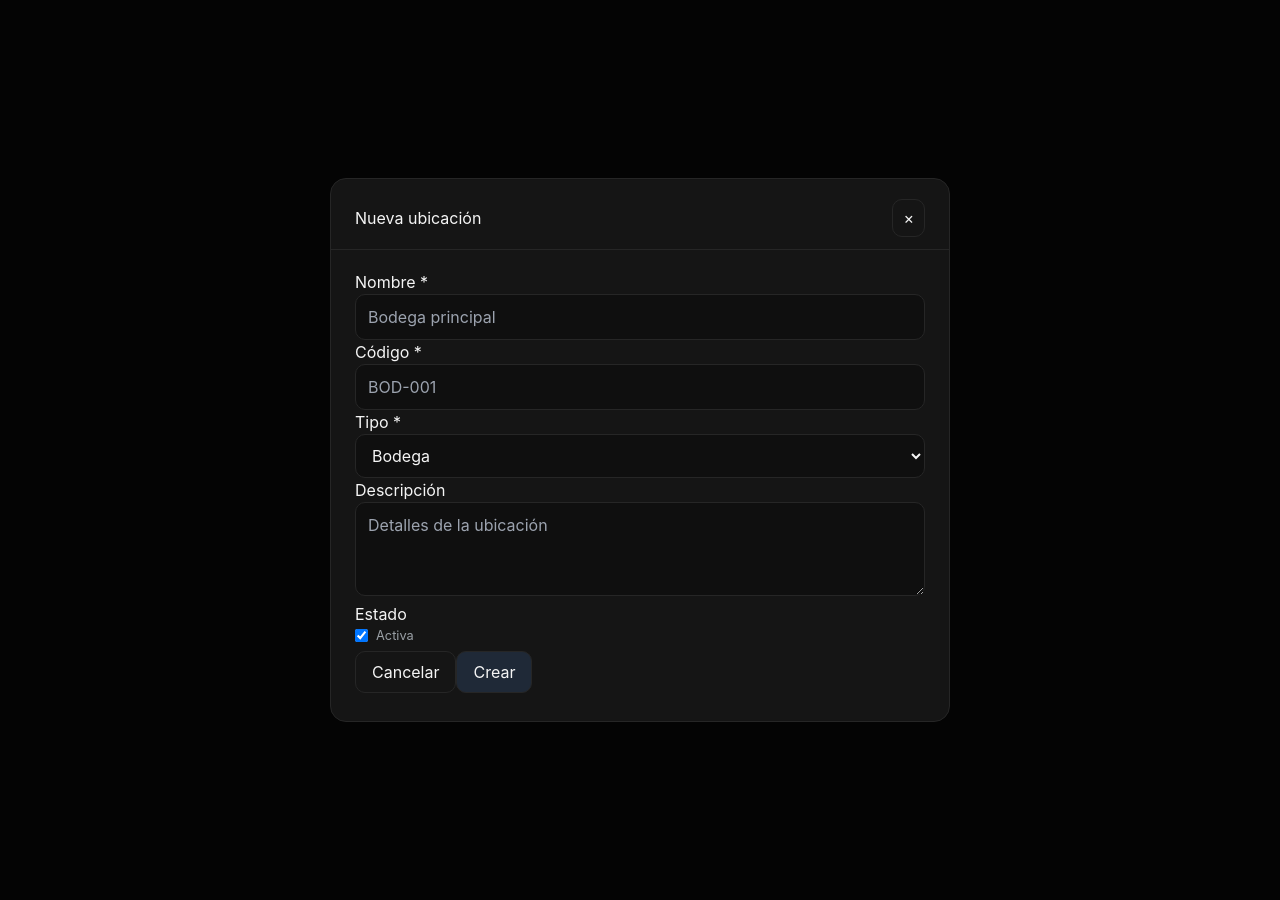
Scenario: LocationForm › muestra error cuando backend indica duplicado
The image size is (1280, 900).
Type "Bodega" into the field labelled "Nombre *" at (640,317), box [355,294,925,340]
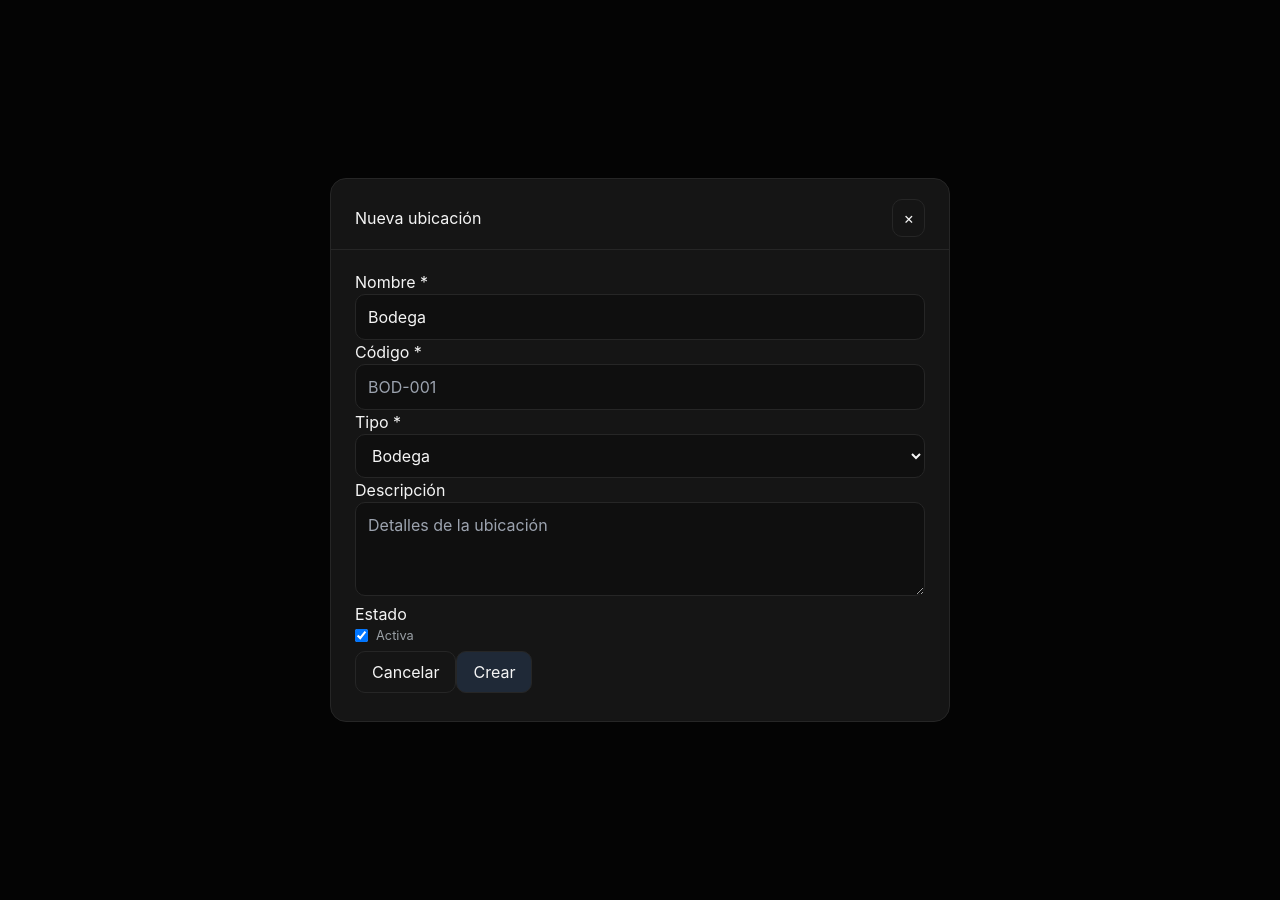
Type "BOD01" into the field labelled "Código *" at (640,387), box [355,364,925,410]
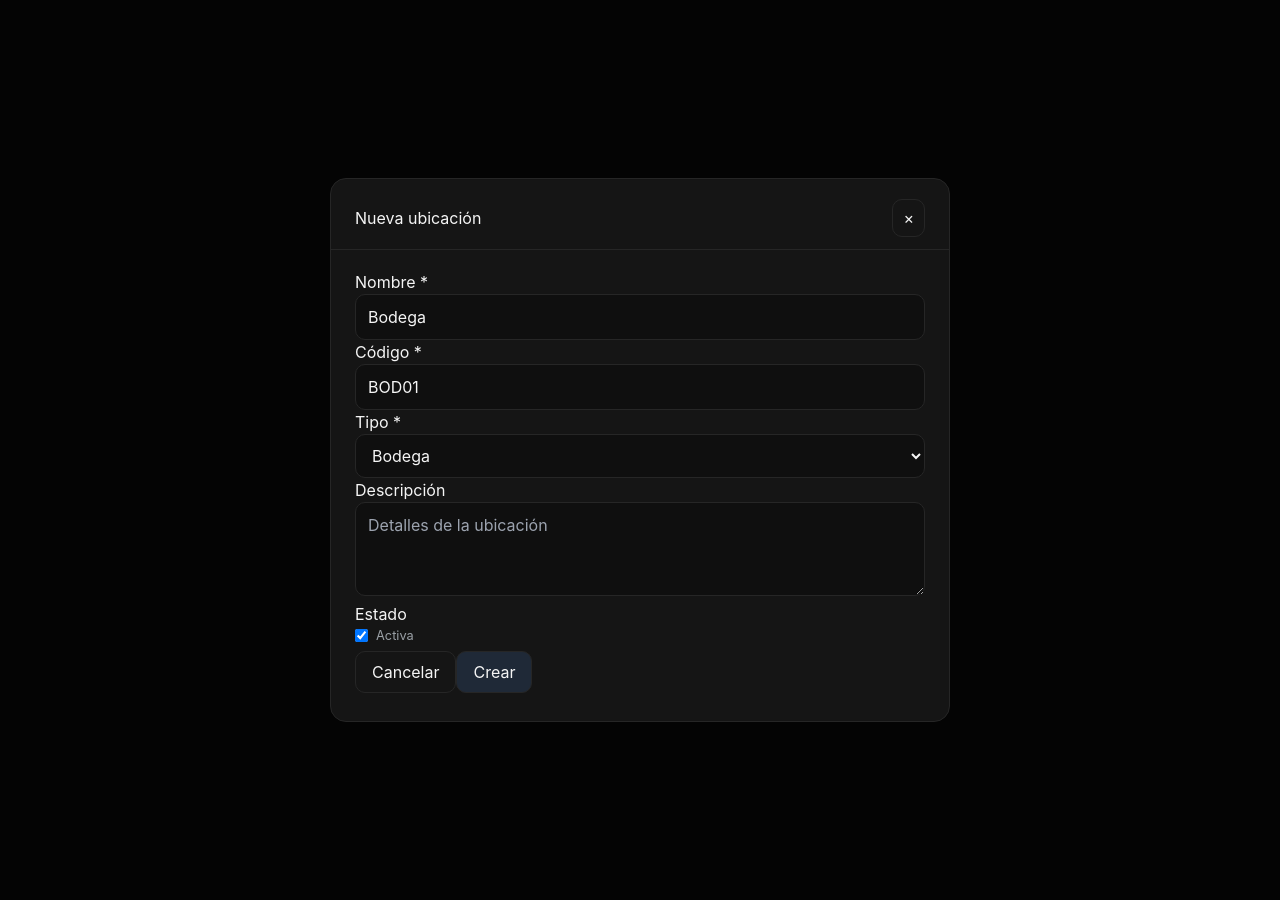
Click the button "Crear" at (494,672), box [456,651,532,693]
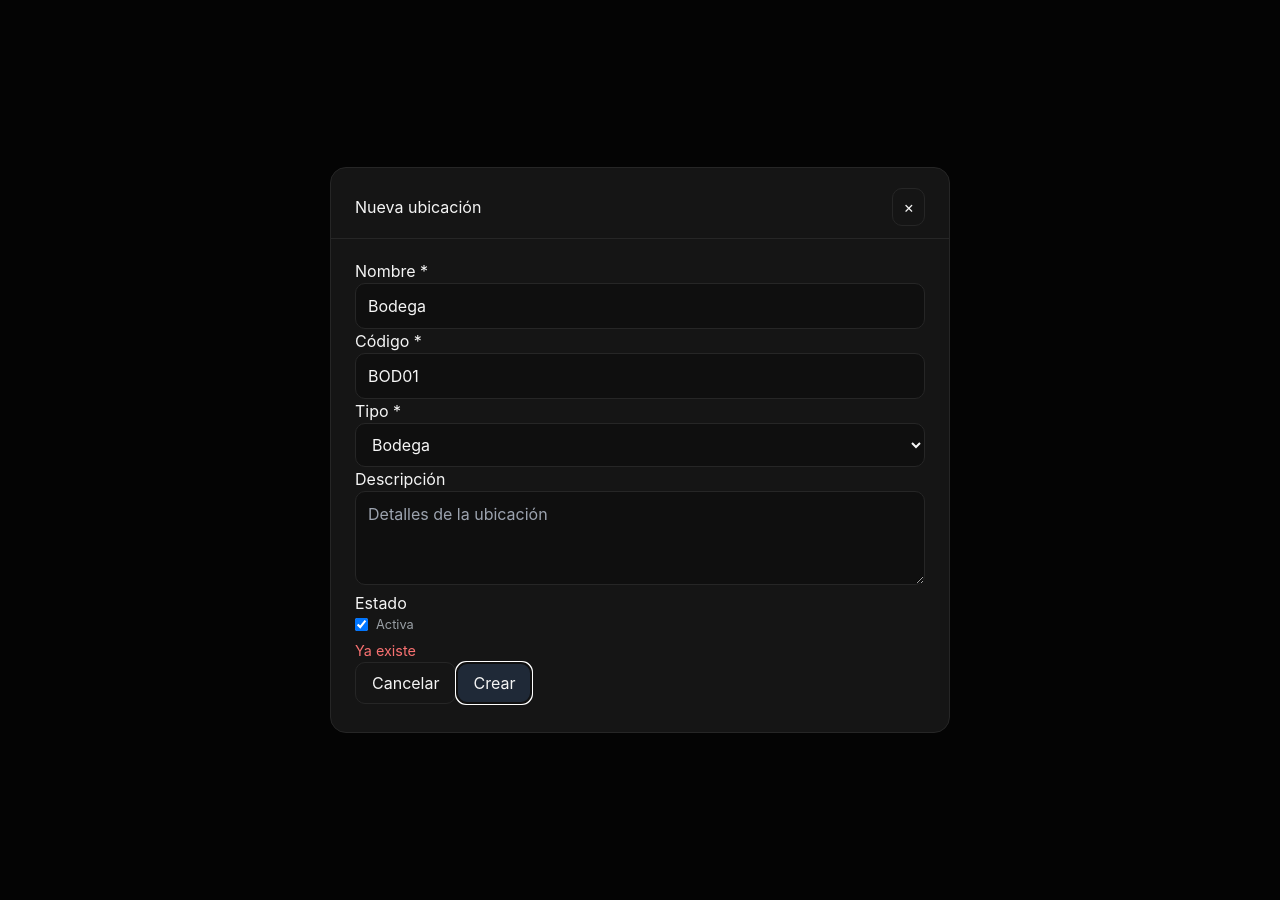
Result: the text "Ya existe" is shown at [355,642,416,659]
